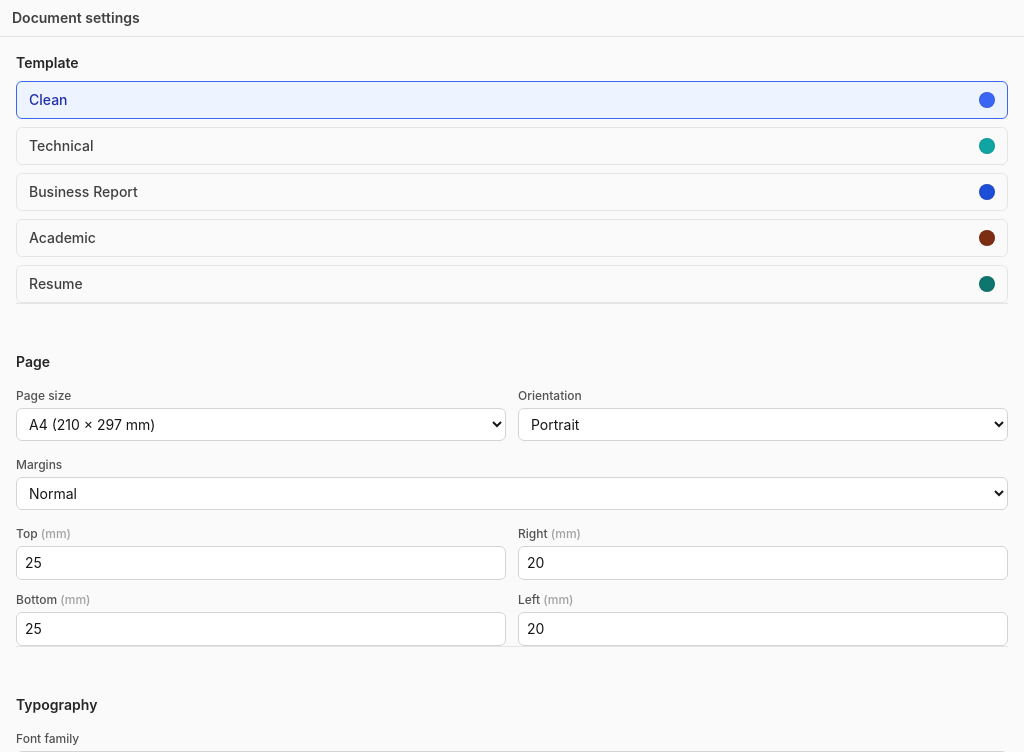
it: SettingsPanel › switching to a custom margin sets the preset to custom
This screenshot has width=1024, height=752.
Replace the text in the number field labelled "Top (mm)" with "42" at (261, 563), box [16,546,506,580]
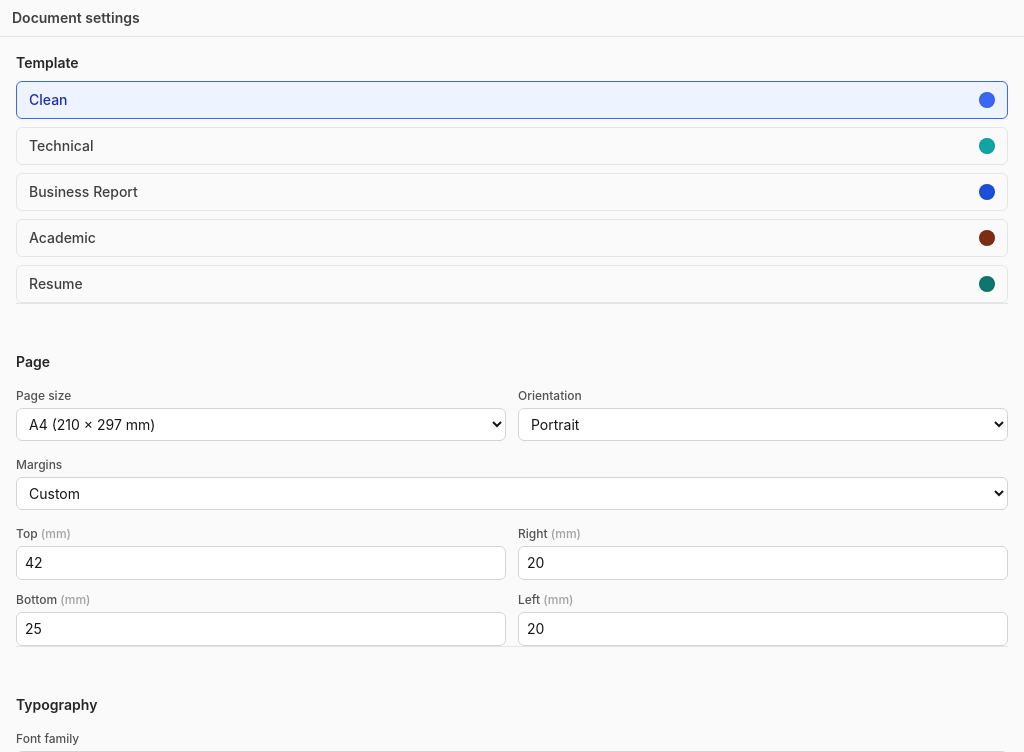
Expected: the dropdown labelled "Margins" shows "Custom", [16,477,1008,510]
